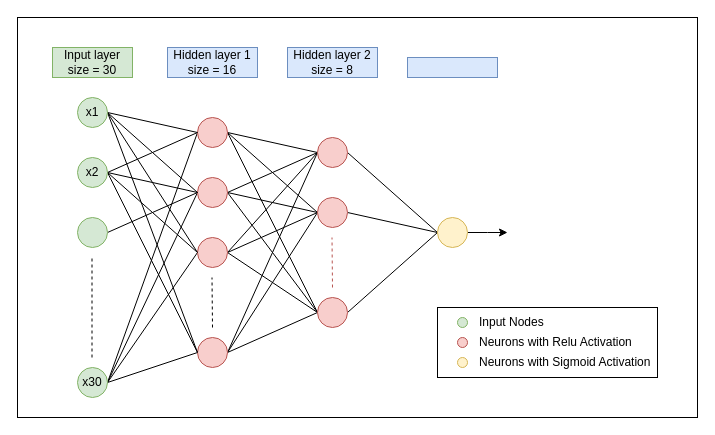
Image size: 715x435. Some labels were removed from this diagram. The centre of each missing label's shape, as x and y in pixels:
Output layer: [452,67]
x3: [92,232]
